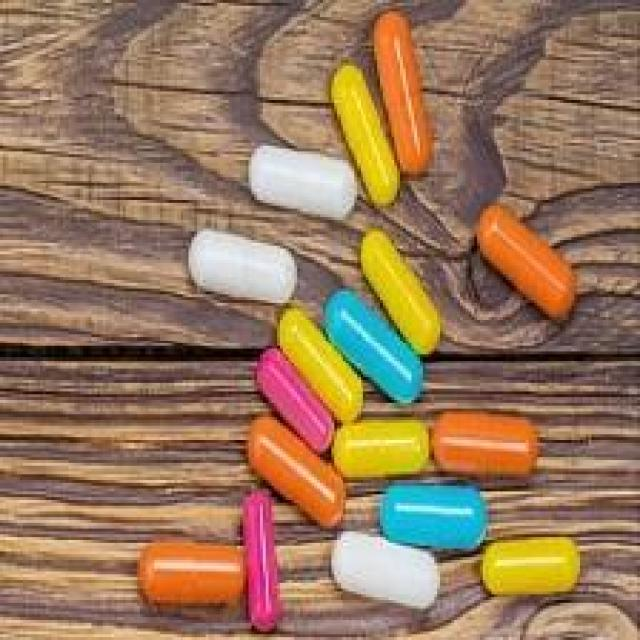Medicine: (74, 14, 581, 632)
